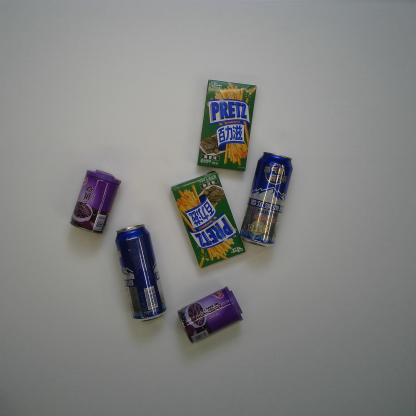Alcohol: (238, 152, 292, 248), (115, 224, 166, 322)
Canned Food: (177, 286, 244, 344), (69, 169, 122, 234)
Dessert: (171, 171, 246, 268), (197, 78, 257, 172)
